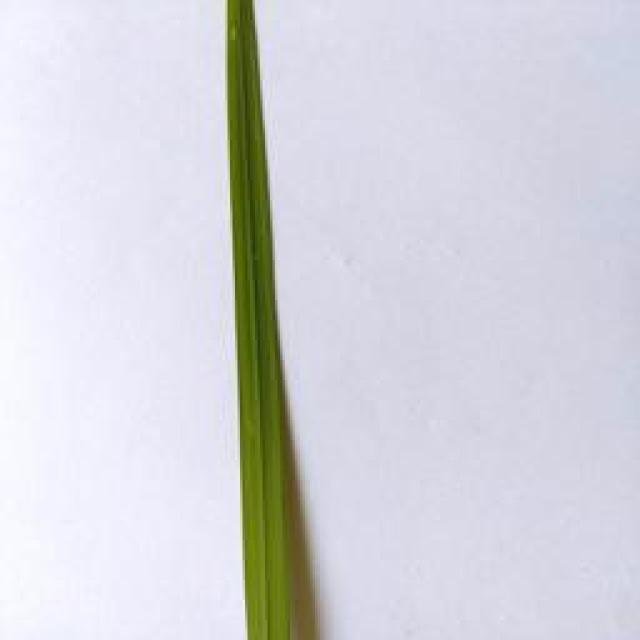Healthy-Plant: (216, 0, 316, 640)
